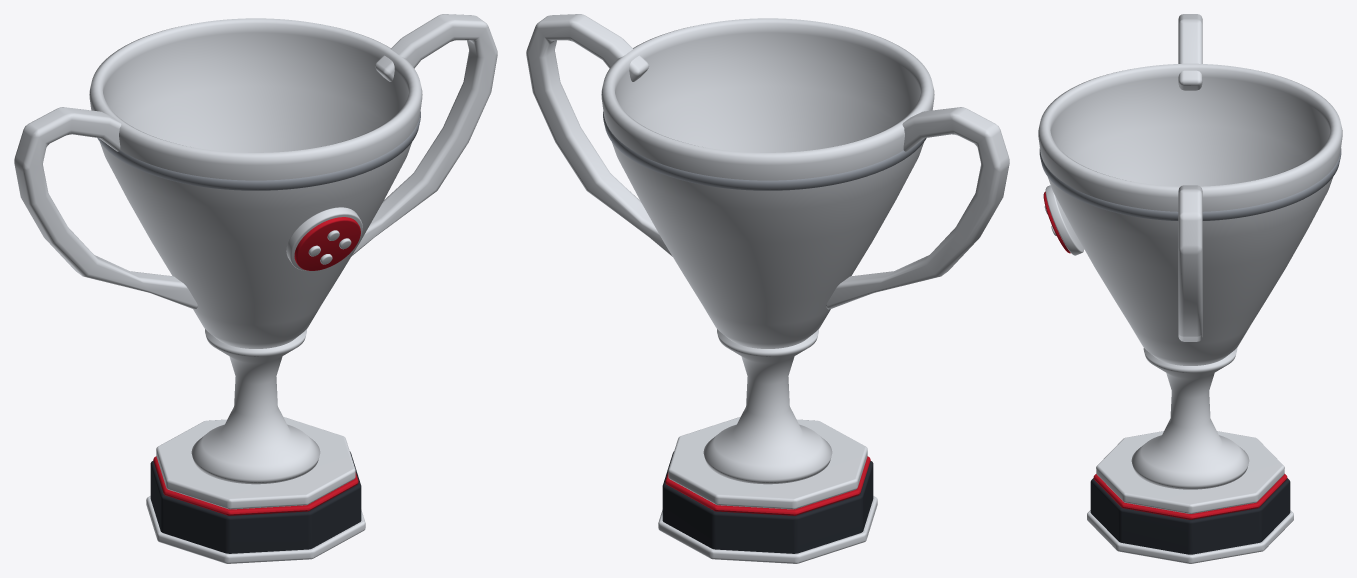
File: tournament-trophy.glb
The picture shows the model from 3 angles, left to right: view 1: azimuth 30°, elevation 25°; view 2: azimuth 150°, elevation 25°; view 3: azimuth 270°, elevation 25°; orthographic projection. The views are drawn at different scales.
Parts seen in each view (by area): view 1: SM_Hollow_Champion_Bowl, SM_Sculpted_Stem, SM_Swept_Handle_1, SM_Swept_Handle_-1, SM_Obsidian_Plinth, SM_Chrome_Plinth_Cap, SM_Satin_Collar, SM_Chrome_Base_Foot, SM_Ruby_Signature, SM_Red_Enamel_Reveal, SM_Signature_Chrome_Rim; view 2: SM_Hollow_Champion_Bowl, SM_Sculpted_Stem, SM_Swept_Handle_1, SM_Swept_Handle_-1, SM_Obsidian_Plinth, SM_Chrome_Plinth_Cap, SM_Satin_Collar, SM_Chrome_Base_Foot, SM_Red_Enamel_Reveal; view 3: SM_Hollow_Champion_Bowl, SM_Sculpted_Stem, SM_Obsidian_Plinth, SM_Chrome_Plinth_Cap, SM_Swept_Handle_1, SM_Satin_Collar, SM_Chrome_Base_Foot, SM_Swept_Handle_-1, SM_Red_Enamel_Reveal, SM_Signature_Chrome_Rim.
Boxes of the visible parts, bbox=[...] form: SM_Hollow_Champion_Bowl: bbox=[89, 18, 422, 348]; SM_Sculpted_Stem: bbox=[191, 329, 320, 484]; SM_Swept_Handle_1: bbox=[351, 14, 497, 256]; SM_Swept_Handle_-1: bbox=[14, 107, 197, 309]; SM_Obsidian_Plinth: bbox=[150, 451, 361, 553]; SM_Chrome_Plinth_Cap: bbox=[156, 417, 355, 509]; SM_Satin_Collar: bbox=[97, 111, 420, 190]; SM_Chrome_Base_Foot: bbox=[146, 496, 365, 563]; SM_Ruby_Signature: bbox=[294, 217, 360, 270]; SM_Red_Enamel_Reveal: bbox=[153, 456, 358, 515]; SM_Signature_Chrome_Rim: bbox=[286, 207, 362, 270]; SM_Hollow_Champion_Bowl: bbox=[601, 18, 934, 348]; SM_Sculpted_Stem: bbox=[703, 329, 832, 484]; SM_Swept_Handle_1: bbox=[526, 14, 672, 256]; SM_Swept_Handle_-1: bbox=[826, 107, 1009, 309]; SM_Obsidian_Plinth: bbox=[662, 451, 873, 553]; SM_Chrome_Plinth_Cap: bbox=[668, 417, 867, 509]; SM_Satin_Collar: bbox=[603, 111, 926, 190]; SM_Chrome_Base_Foot: bbox=[658, 496, 877, 563]; SM_Red_Enamel_Reveal: bbox=[665, 456, 870, 515]; SM_Hollow_Champion_Bowl: bbox=[1038, 63, 1342, 365]; SM_Sculpted_Stem: bbox=[1131, 348, 1249, 489]; SM_Obsidian_Plinth: bbox=[1090, 478, 1290, 554]; SM_Chrome_Plinth_Cap: bbox=[1096, 431, 1284, 513]; SM_Swept_Handle_1: bbox=[1178, 185, 1202, 341]; SM_Satin_Collar: bbox=[1039, 148, 1341, 220]; SM_Chrome_Base_Foot: bbox=[1087, 510, 1293, 563]; SM_Swept_Handle_-1: bbox=[1178, 14, 1202, 90]; SM_Red_Enamel_Reveal: bbox=[1093, 474, 1287, 519]; SM_Signature_Chrome_Rim: bbox=[1045, 185, 1084, 255].
Size of the model in its own units: 0.3748 by 0.3432 by 0.228.
